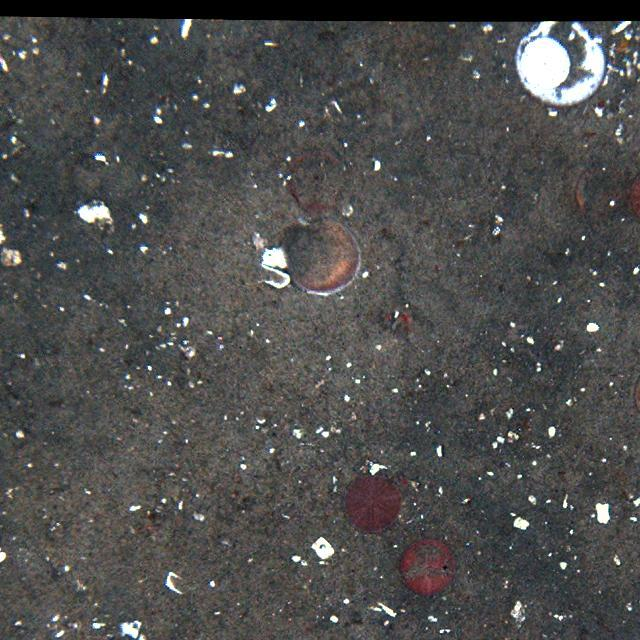scallop: (277, 217, 364, 295)
